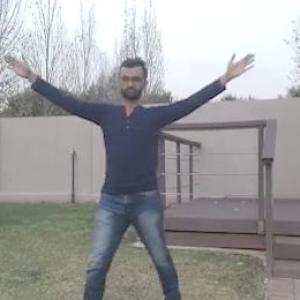takeoff: (22, 56, 271, 299)
